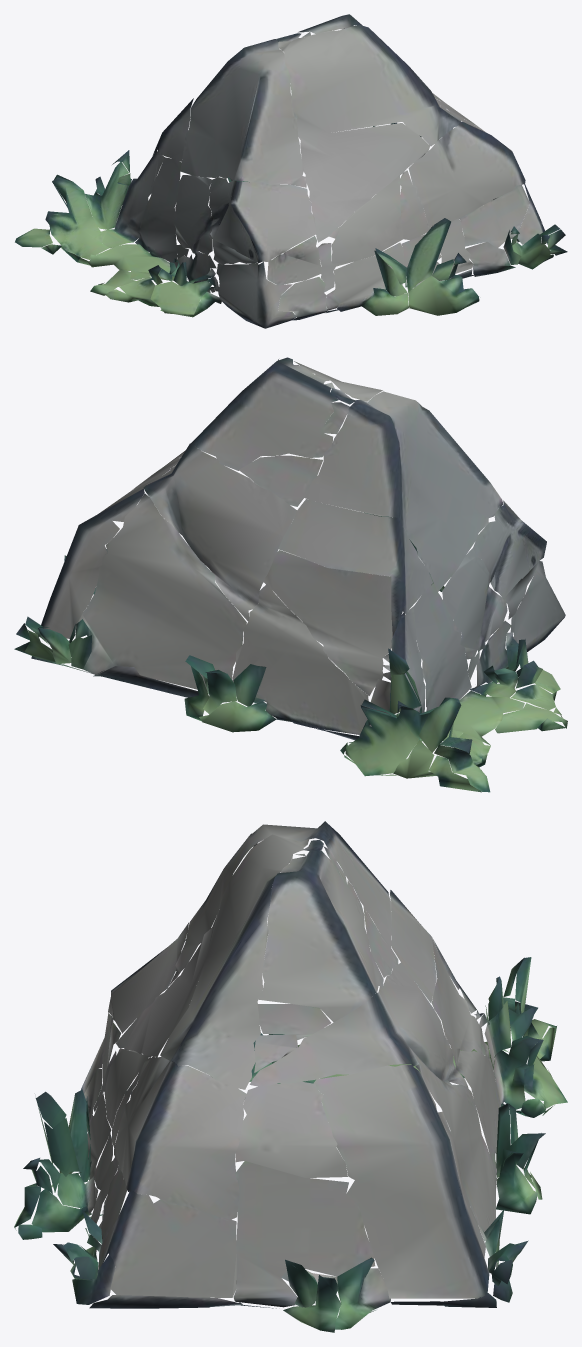
Rendered from green16.glb.
The picture shows the model from 3 angles, top to bottom: view 1: azimuth 30°, elevation 25°; view 2: azimuth 150°, elevation 25°; view 3: azimuth 270°, elevation 25°; orthographic projection. The views are drawn at different scales.
Visible parts, largest first — view 1: tripo_node_c71564a2-1a5e-419f-96ee-40348e56485b; view 2: tripo_node_c71564a2-1a5e-419f-96ee-40348e56485b; view 3: tripo_node_c71564a2-1a5e-419f-96ee-40348e56485b.
Part boxes in pixels (x1,y1,x2,y2): tripo_node_c71564a2-1a5e-419f-96ee-40348e56485b: (15, 14, 567, 328); tripo_node_c71564a2-1a5e-419f-96ee-40348e56485b: (14, 357, 567, 792); tripo_node_c71564a2-1a5e-419f-96ee-40348e56485b: (14, 821, 567, 1332).
Bounding box in the file's own units: 0.9975 × 0.5314 × 0.7553.
Materials: 1 (1 with a texture image).
